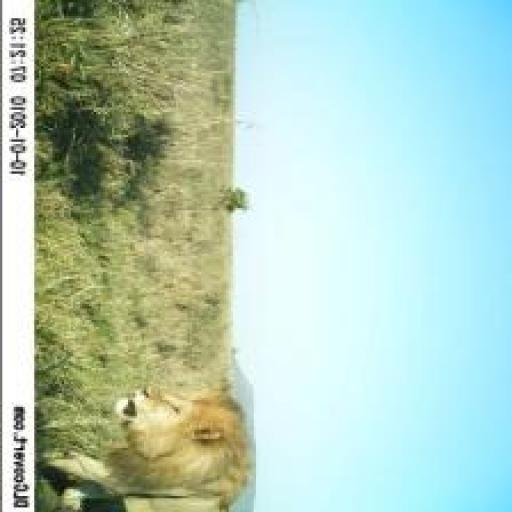lion: (37, 382, 282, 510)
